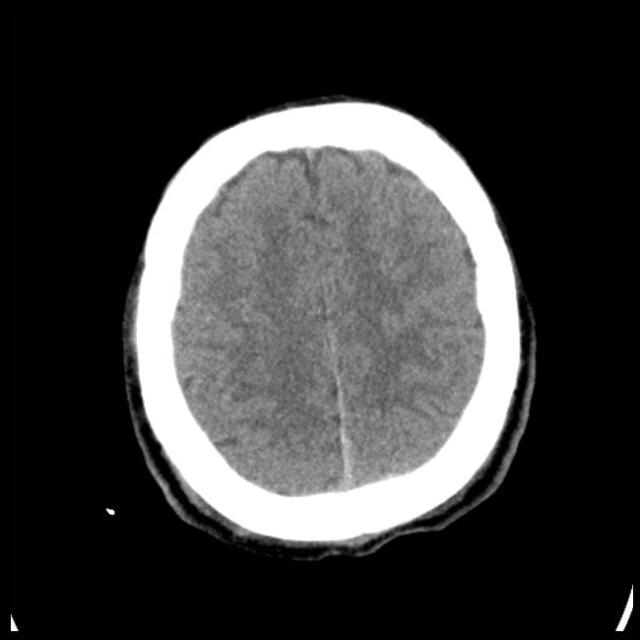lesion: (118, 93, 539, 560)
